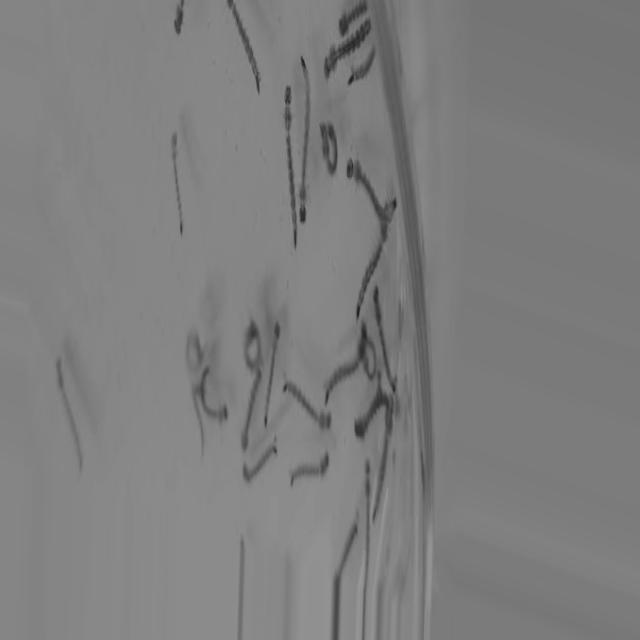larvas: (350, 183, 399, 322), (223, 0, 268, 94), (318, 322, 365, 412), (319, 14, 377, 82), (278, 372, 335, 437), (343, 148, 388, 223), (55, 358, 84, 464), (281, 84, 298, 242), (299, 55, 311, 224), (374, 283, 394, 381), (266, 316, 282, 427), (343, 45, 379, 94), (167, 127, 183, 231), (355, 387, 388, 437), (200, 374, 230, 421), (242, 438, 276, 478), (288, 453, 329, 484), (335, 0, 368, 36), (241, 376, 259, 442), (190, 386, 207, 455), (375, 433, 390, 505), (321, 120, 339, 172), (186, 332, 205, 374), (342, 524, 362, 560), (244, 321, 260, 364), (364, 462, 372, 533), (174, 0, 191, 32), (365, 336, 377, 377)
